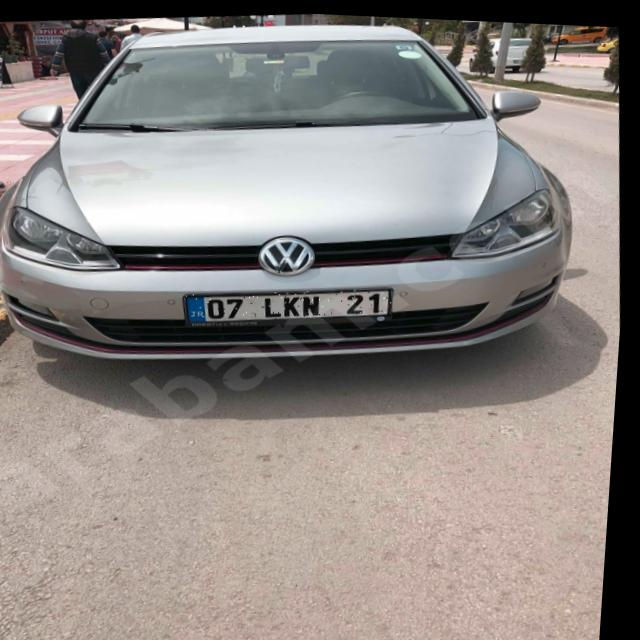license_plate: (187, 278, 396, 326)
